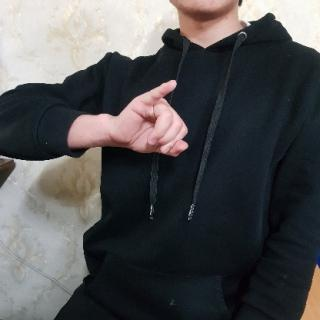MEEM: (112, 76, 194, 172)
